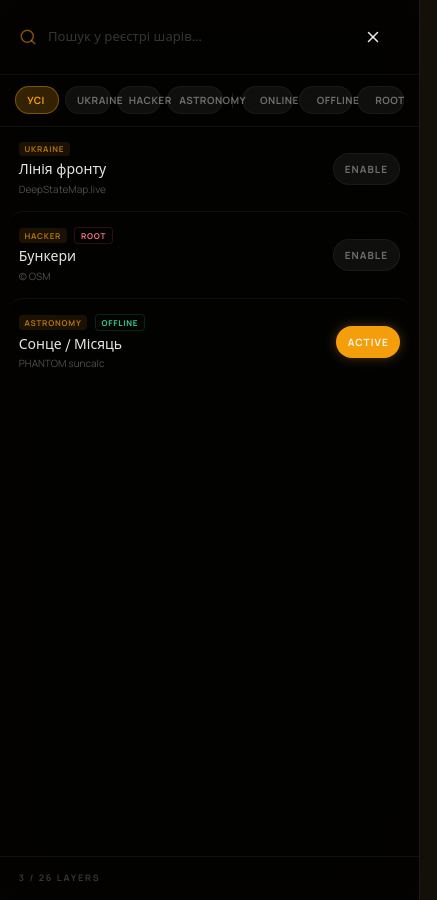
Test case: LayerLibraryPanel › filters by ROOT-only mode
Check: the list item with test id "layer-row-frontline" is shown, box [8,126,412,211]
Click the button with test id "filter-root" at (381, 100), box [357,86,404,114]
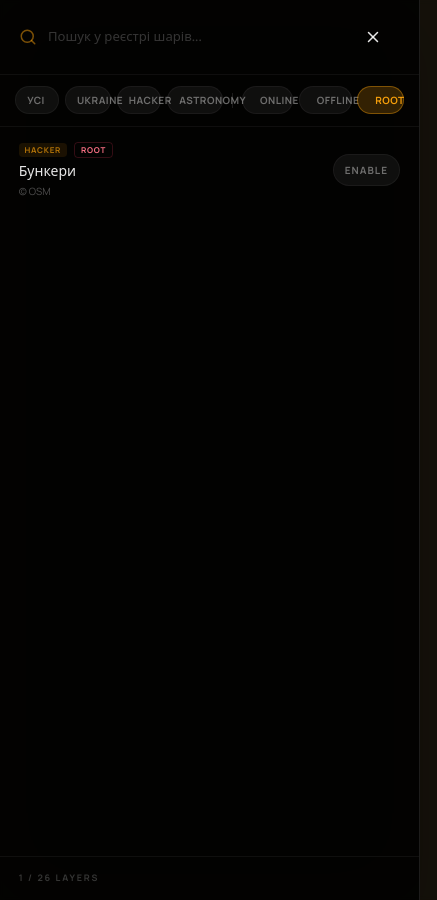
Check: the list item with test id "layer-row-bunkers" is shown, box [8,126,412,213]
Check: the list item with test id "layer-row-frontline" is gone
